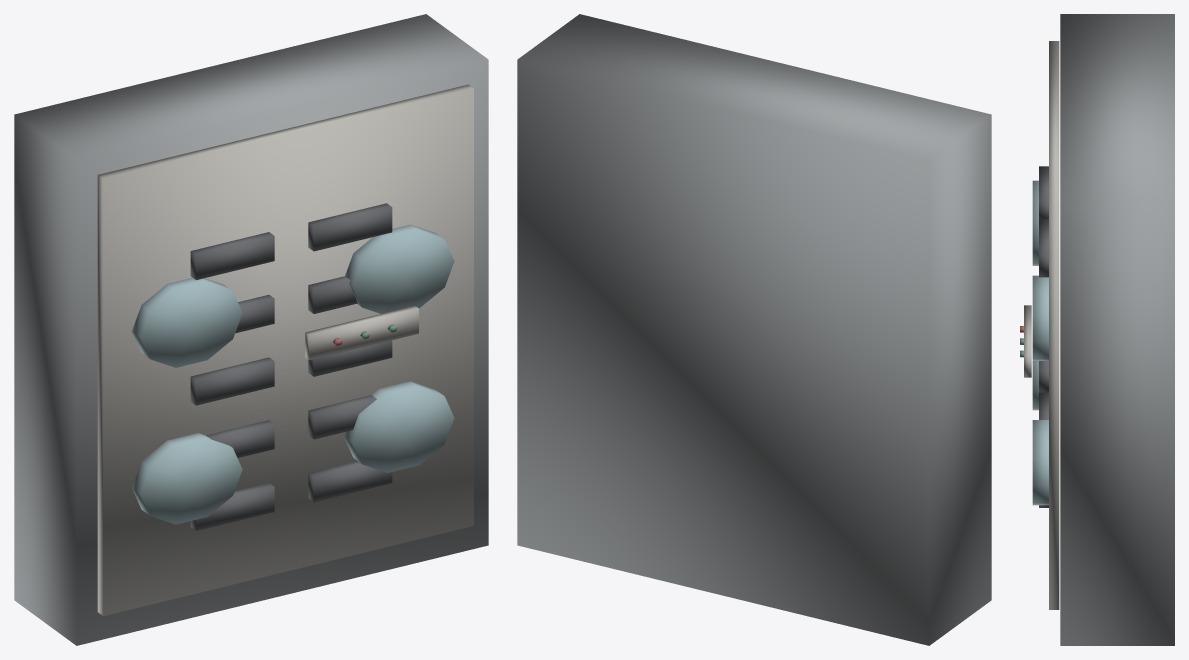
Rendered from meter_bank__squat.glb.
The picture shows the model from 3 angles, left to right: view 1: azimuth 30°, elevation 25°; view 2: azimuth 150°, elevation 25°; view 3: azimuth 270°, elevation 25°; orthographic projection. The views are drawn at different scales.
Parts seen in each view (by area): view 1: world; view 2: world; view 3: world.
Part boxes in pixels (x1,y1,x2,y2): world: (14,14,488,645); world: (517,14,991,645); world: (1020,14,1174,645).
Bounding box in the file's own units: 1.15 × 1.3 × 0.4088.
